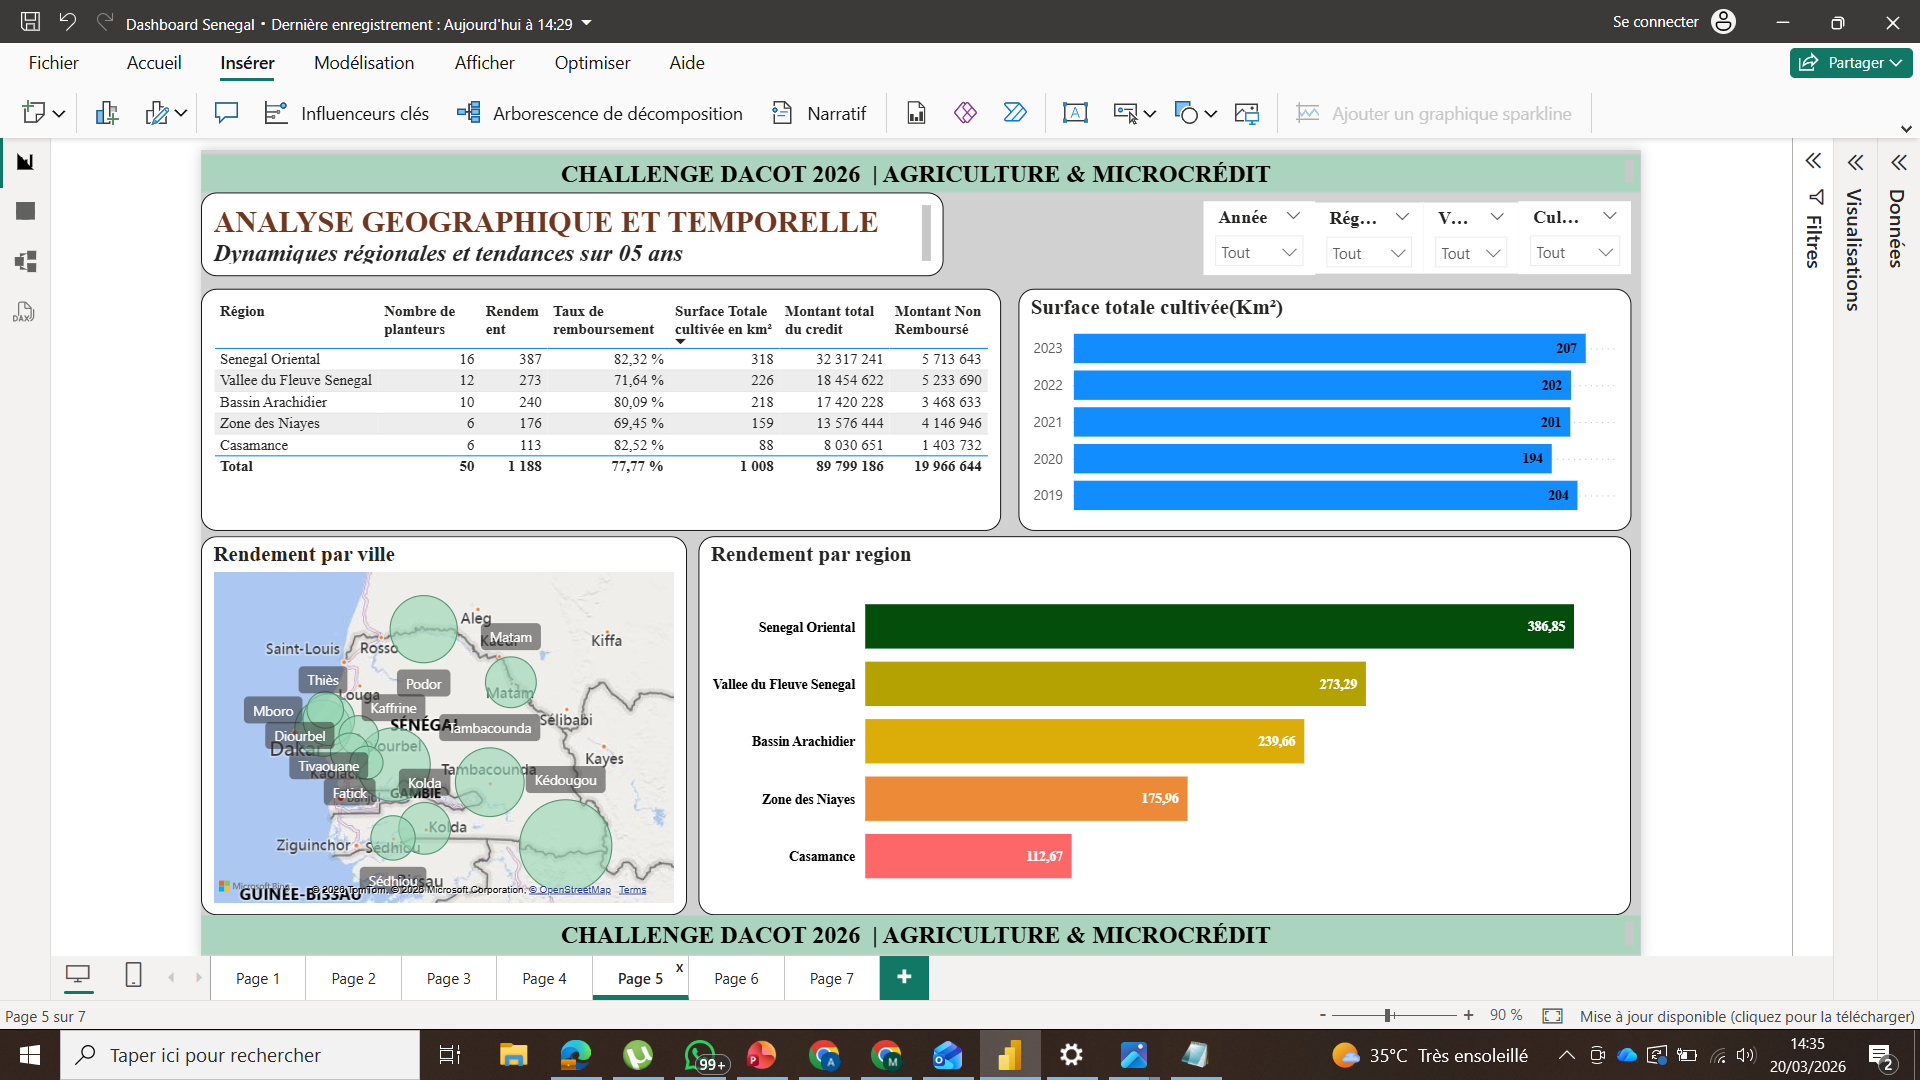

The dashboard page shown, as its layout file describes it:
{"tool":"powerbi","page":{"name":"Page 5","canvas":[1280,720],"ordinal":4},"visuals":[{"type":"map","fields":{"Category":["DimVille.nom_ville"],"Size":["Sum(FaitAgriculture.rendement)"]},"box":[0,343.3,432.2,336.7],"z":0},{"type":"barChart","fields":{"Y":["Sum(FaitAgriculture.rendement)"],"Category":["DimRegion.nom_region"]},"box":[442.2,343.3,828.9,336.7],"z":1000},{"type":"barChart","title":"Surface totale cultivée(Km²)","fields":{"Category":["FaitAgriculture.annee"],"Y":["Sum(FaitAgriculture.surface_km2)"]},"box":[726.7,123.3,544.4,215.6],"z":2000},{"type":"textbox","box":[0,3.3,1280,34.4],"z":3000},{"type":"textbox","box":[0,680,1280,35],"z":4000},{"type":"textbox","box":[0,37.8,660,74.4],"z":5000},{"type":"slicer","fields":{"Values":["FaitAgriculture.annee"]},"box":[891.1,45.6,98.9,65.6],"z":6000},{"type":"slicer","fields":{"Values":["DimRegion.nom_region"]},"box":[990,46.7,96.7,63.3],"z":7000},{"type":"slicer","fields":{"Values":["DimCulture.nom_culture"]},"box":[1171.1,45.6,100,64.4],"z":8000},{"type":"tableEx","fields":{"Values":["DimRegion.nom_region","FaitAgriculture.Nombre de planteurs","Sum(FaitAgriculture.rendement)","FaitAgriculture.Taux de remboursement","Sum(FaitAgriculture.surface_km2)","Sum(FaitAgriculture.montant_credit)","FaitAgriculture.Montant Non Remboursé"]},"box":[0,123.3,711.1,215.6],"z":9000},{"type":"slicer","fields":{"Values":["DimVille.nom_ville"]},"box":[1086.7,46.7,84.4,63.3],"z":9001}]}

Visuals, with their boxes on the page's 1280x720 design canvas (x1, y1, x2, y2). These are canvas units, not pixel positions in the 1920x1080 screenshot, which may show the page scaled, cropped or inside an application window:
map - DimVille.nom_ville x Sum(FaitAgriculture.rendement): bbox=(0, 343, 432, 680)
barChart - Sum(FaitAgriculture.rendement) x DimRegion.nom_region: bbox=(442, 343, 1271, 680)
"Surface totale cultivée(Km²)" barChart: bbox=(727, 123, 1271, 339)
textbox: bbox=(0, 3, 1280, 38)
textbox: bbox=(0, 680, 1280, 715)
textbox: bbox=(0, 38, 660, 112)
slicer - FaitAgriculture.annee: bbox=(891, 46, 990, 111)
slicer - DimRegion.nom_region: bbox=(990, 47, 1087, 110)
slicer - DimCulture.nom_culture: bbox=(1171, 46, 1271, 110)
tableEx - DimRegion.nom_region x FaitAgriculture.Nombre de planteurs: bbox=(0, 123, 711, 339)
slicer - DimVille.nom_ville: bbox=(1087, 47, 1171, 110)
